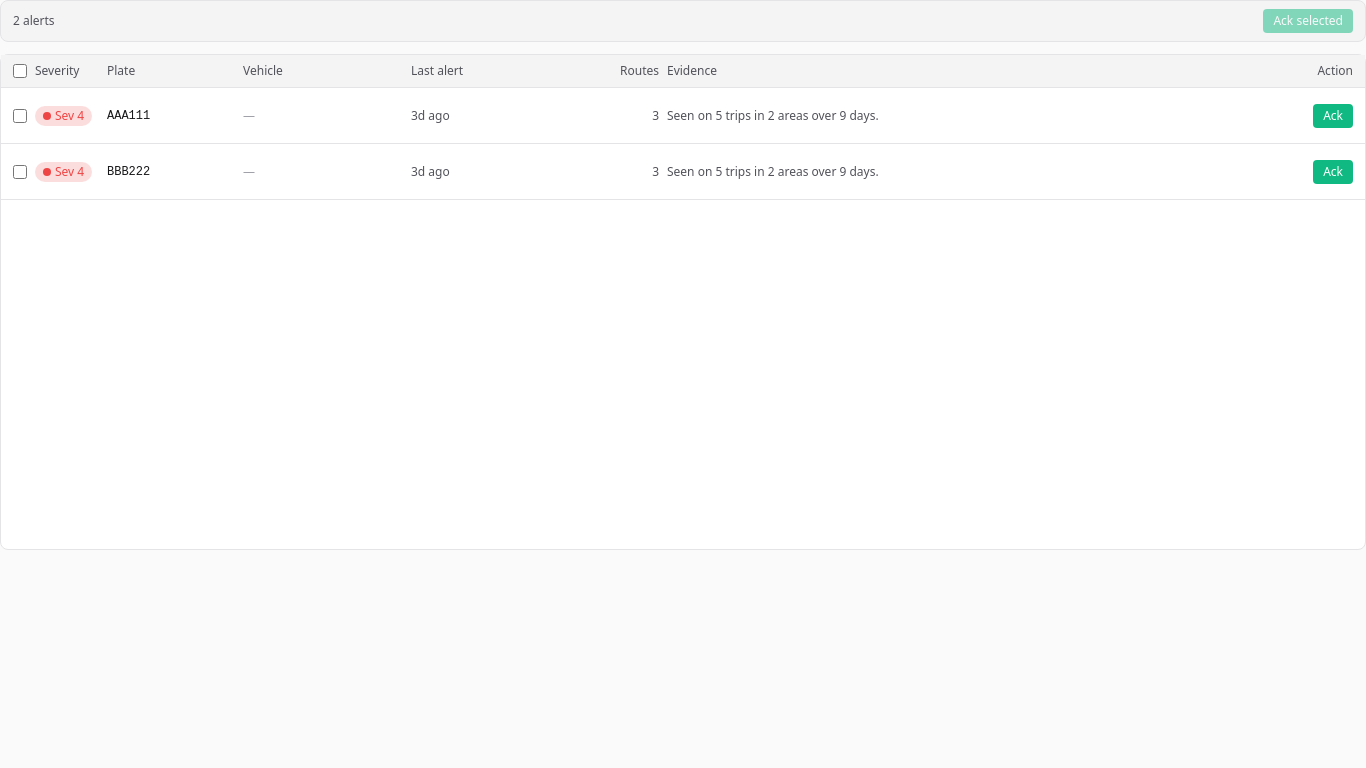
Test: AlertsTab: bulk-ack partial failure › marks the failed row red and keeps the successful one acked
Expected: the link with test id "alerts-row-h1" is shown, x1=1 y1=88 x2=1365 y2=144
Click the checkbox with test id "alerts-row-select-h1".
click(20, 116)  # box x1=13 y1=108 x2=27 y2=122
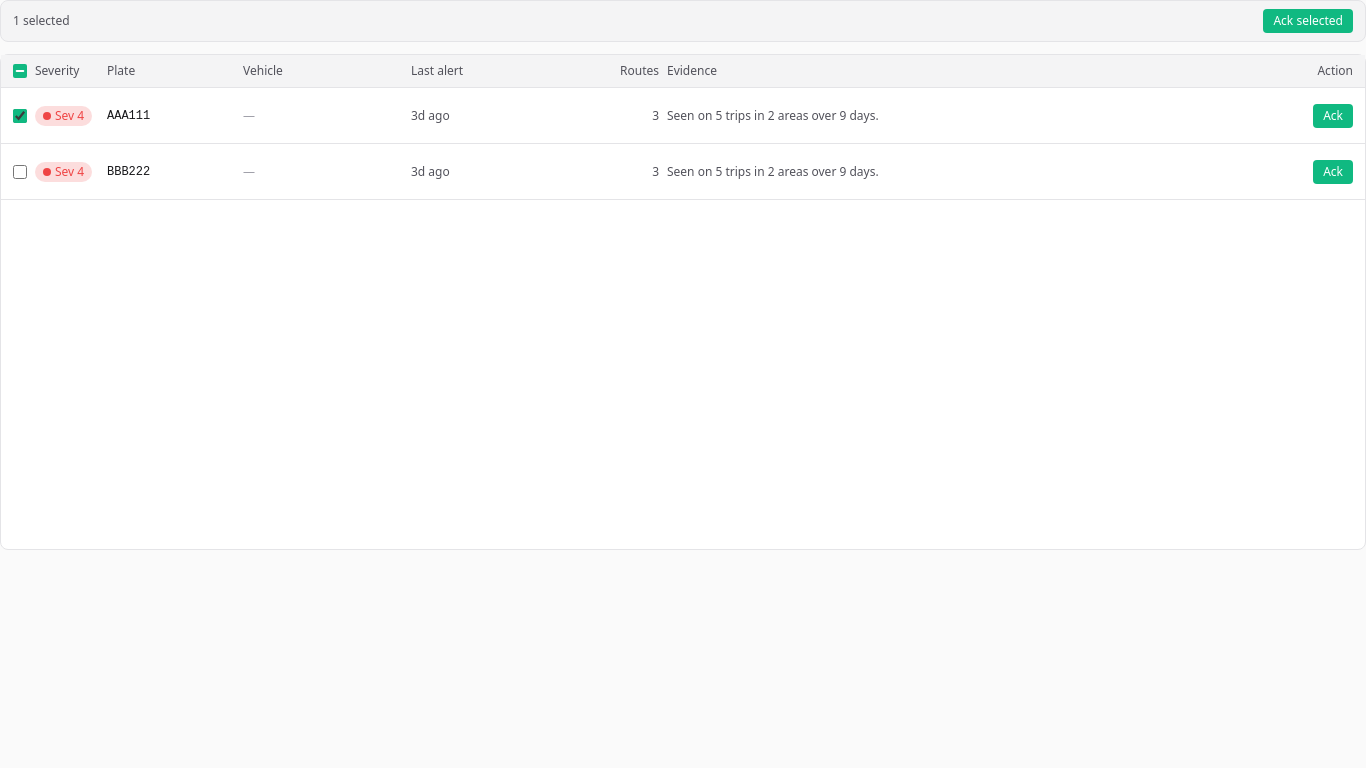
Click the checkbox with test id "alerts-row-select-h2".
click(20, 172)  # box x1=13 y1=164 x2=27 y2=178
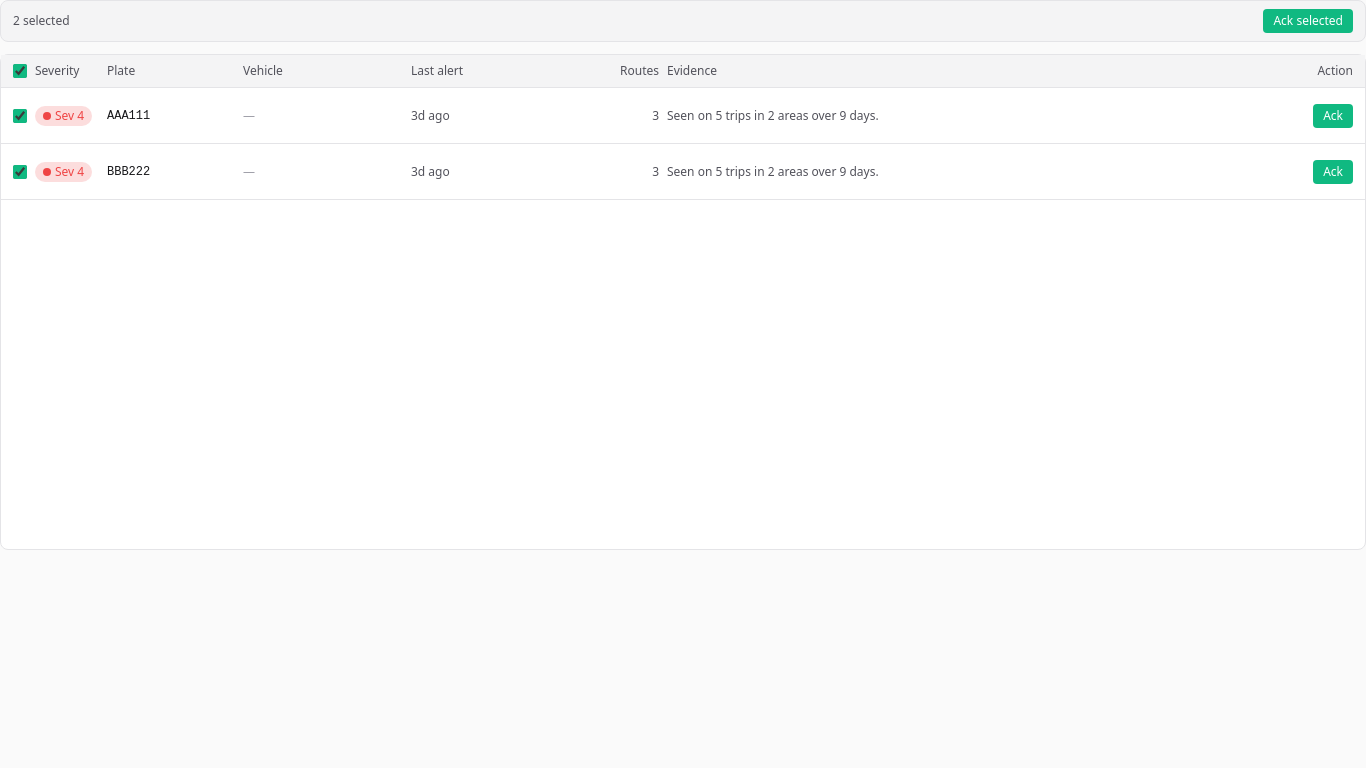
Click the button with test id "alerts-bulk-ack".
click(1308, 21)  # box x1=1263 y1=9 x2=1353 y2=33
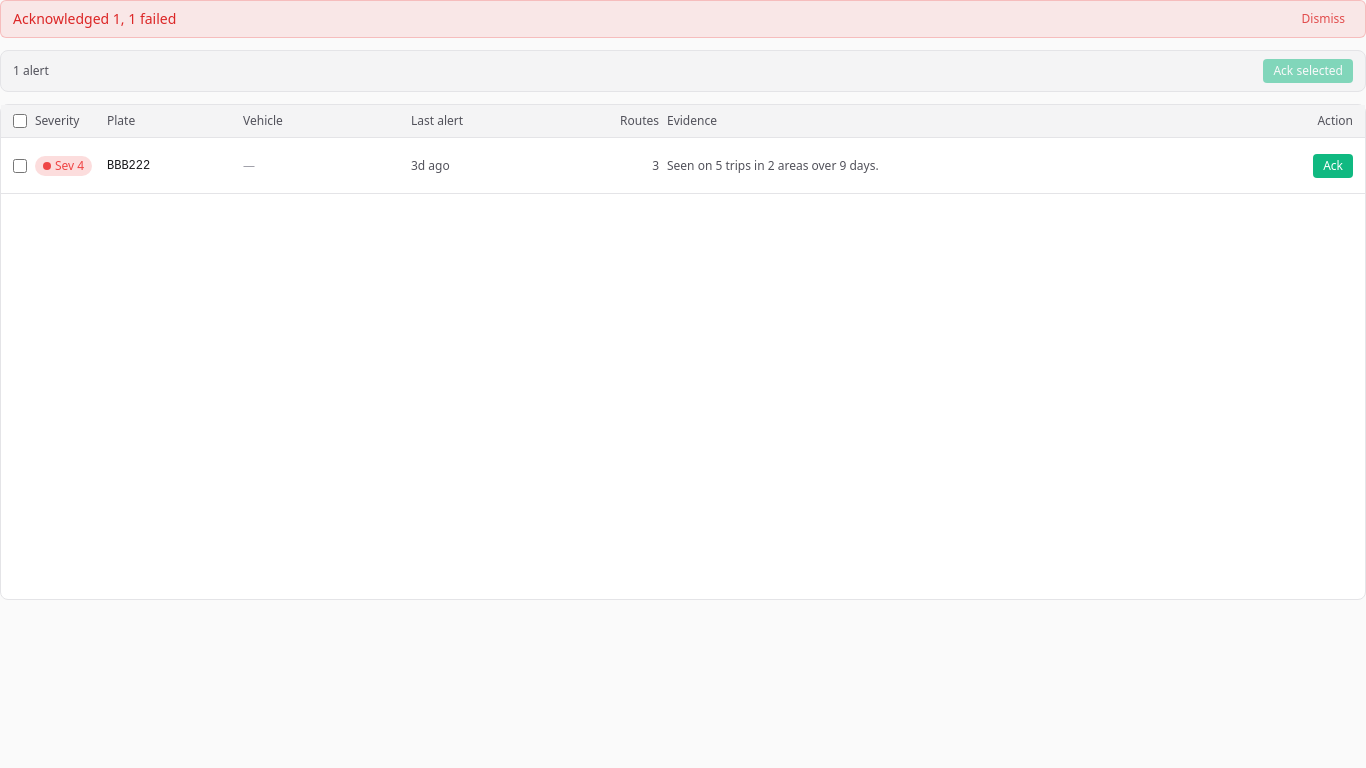
Expected: the link with test id "alerts-row-h2" is shown, x1=1 y1=138 x2=1365 y2=194
Expected: the link with test id "alerts-row-h1" is gone
Expected: the text "Acknowledged 1, 1 failed" is shown, x1=13 y1=9 x2=176 y2=28
